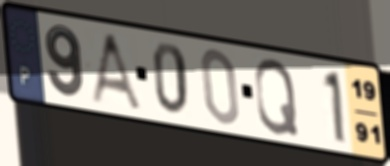0: (198, 47, 241, 128), (151, 41, 190, 118)
1: (320, 68, 348, 146)
9: (42, 22, 87, 101)
A: (86, 29, 145, 113)
Q: (252, 56, 301, 138)
